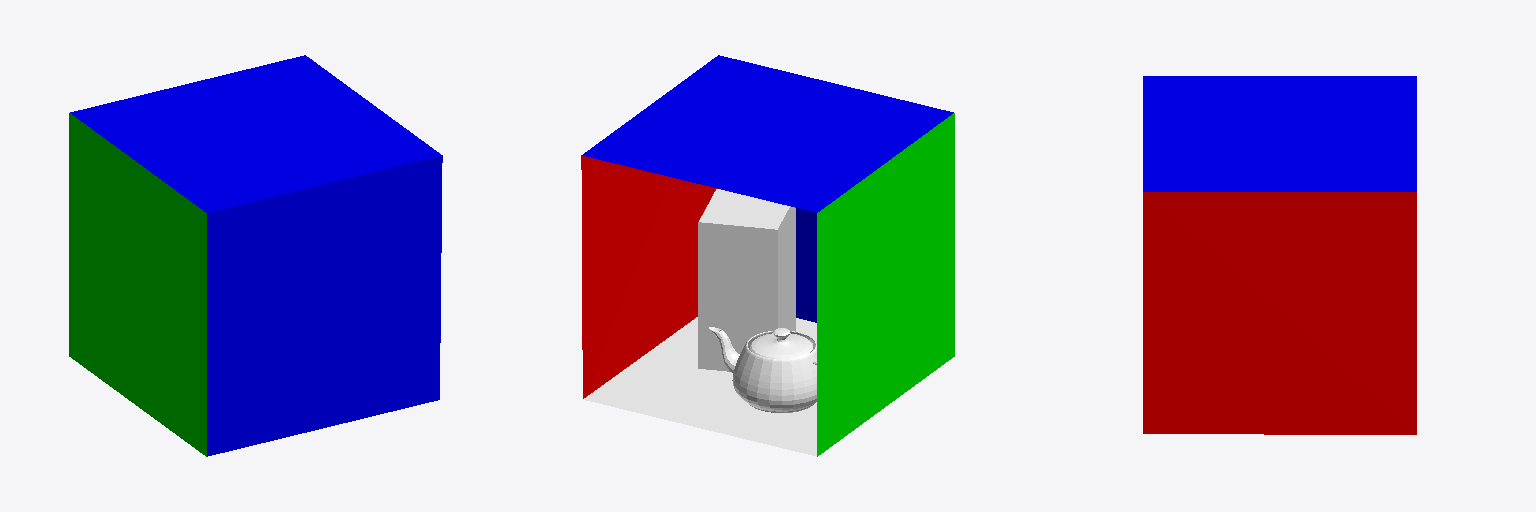
File: cornell.obj
3 renders of one model, left to right at view 1: azimuth 30°, elevation 25°; view 2: azimuth 150°, elevation 25°; view 3: azimuth 270°, elevation 25°, orthographic.
Parts seen in each view (by area): view 1: back_wall, green_wall, ceiling; view 2: green_wall, ceiling, red_wall, tall_block, floor, teapot, back_wall; view 3: red_wall, ceiling.
Boxes of the visible parts, box(x1,y1,x2,y2) form: back_wall: box(207, 155, 442, 456); green_wall: box(69, 113, 206, 456); ceiling: box(70, 55, 441, 212); green_wall: box(817, 113, 954, 456); ceiling: box(582, 55, 953, 212); red_wall: box(581, 155, 716, 398); tall_block: box(698, 189, 795, 371); floor: box(583, 317, 816, 456); teapot: box(709, 327, 816, 412); back_wall: box(796, 208, 816, 322); red_wall: box(1143, 192, 1416, 434); ceiling: box(1143, 76, 1416, 191).
Bounding box in the file's own units: 556 × 549 × 559.